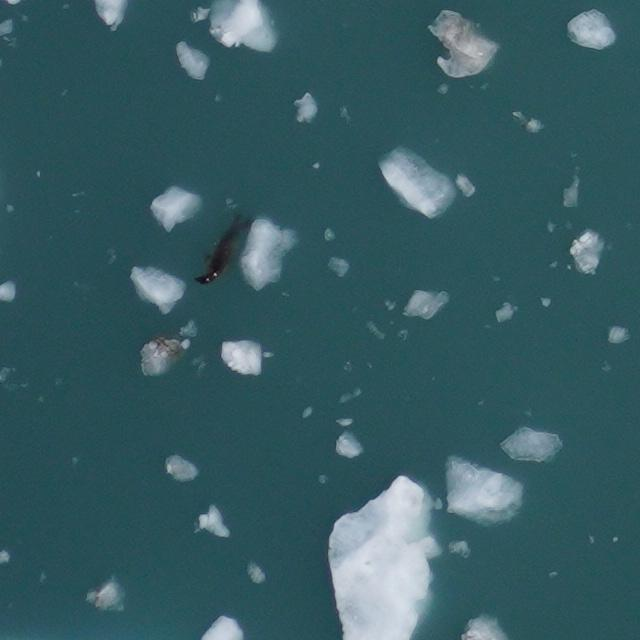seal: (193, 206, 248, 292)
